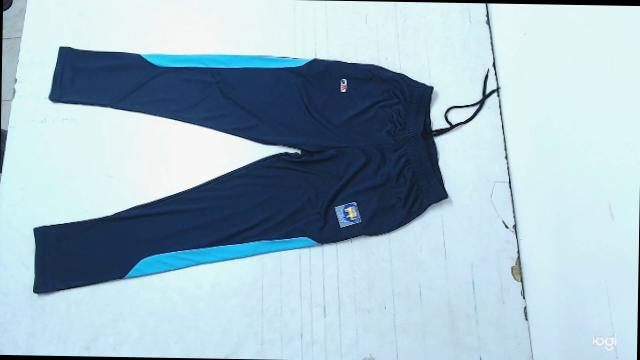new-garment: (33, 46, 460, 292)
